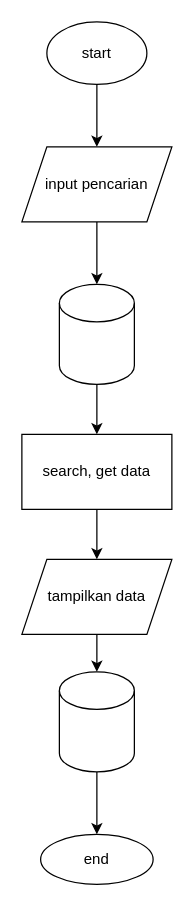
This 194x906 diagram has some shape labels left out. Each missing label, with the centre of its shape:
buka koneksi Database: pixel 96 333
tutup koneksi databse: pixel 96 721
